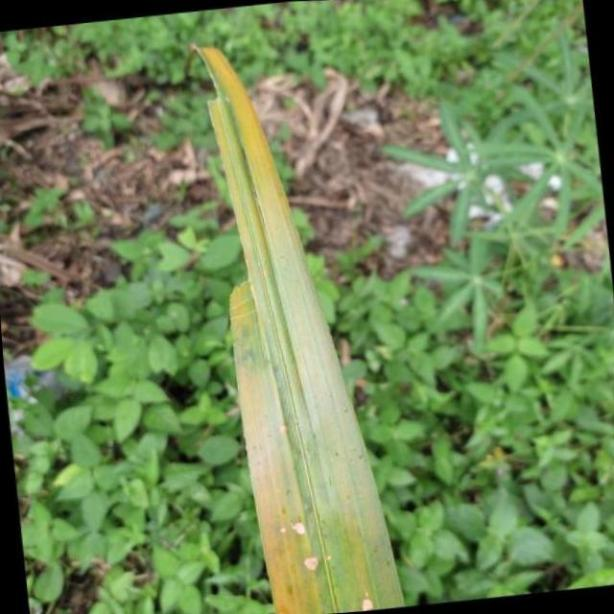Megnesium: (160, 45, 406, 614)
